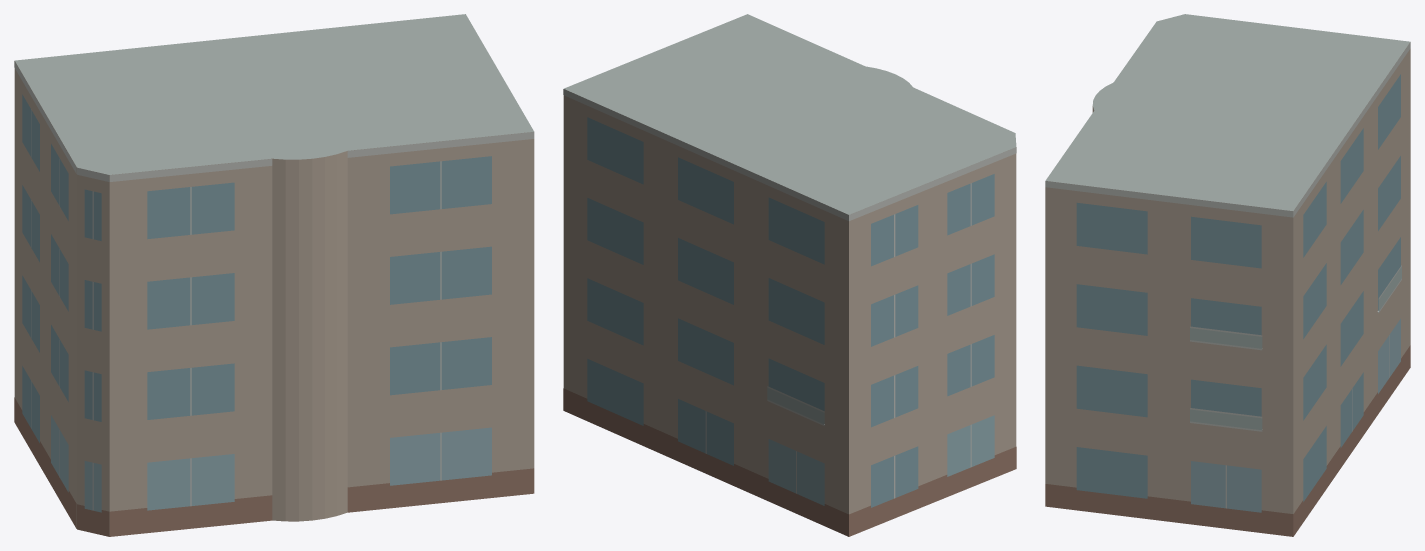
Rendered from survey-upis-33016072.glb.
The picture shows the model from 3 angles, left to right: view 1: azimuth 30°, elevation 25°; view 2: azimuth 150°, elevation 25°; view 3: azimuth 270°, elevation 25°; orthographic projection. The views are drawn at different scales.
Visible parts, largest first — view 1: survey-upis-33016072.tmp; view 2: survey-upis-33016072.tmp; view 3: survey-upis-33016072.tmp.
Part boxes in pixels (x1,y1,x2,y2): survey-upis-33016072.tmp: [14, 14, 534, 536]; survey-upis-33016072.tmp: [563, 14, 1016, 536]; survey-upis-33016072.tmp: [1045, 14, 1410, 536].
Size of the model in its own units: 16.11 by 12.4 by 12.62.
